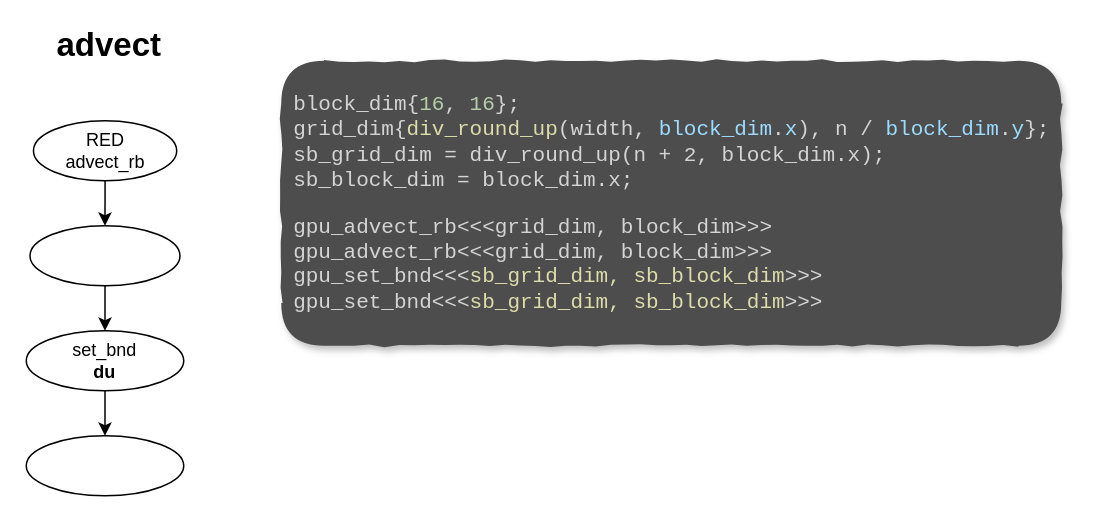
Image size: 1097x522. Some labels were removed from this diagram. Here are the shapes that lost their labels. From the top down, the centre of each, then its label:
(x=104, y=255): BLACK advect_rb
(x=104, y=465): set_bnd dv
